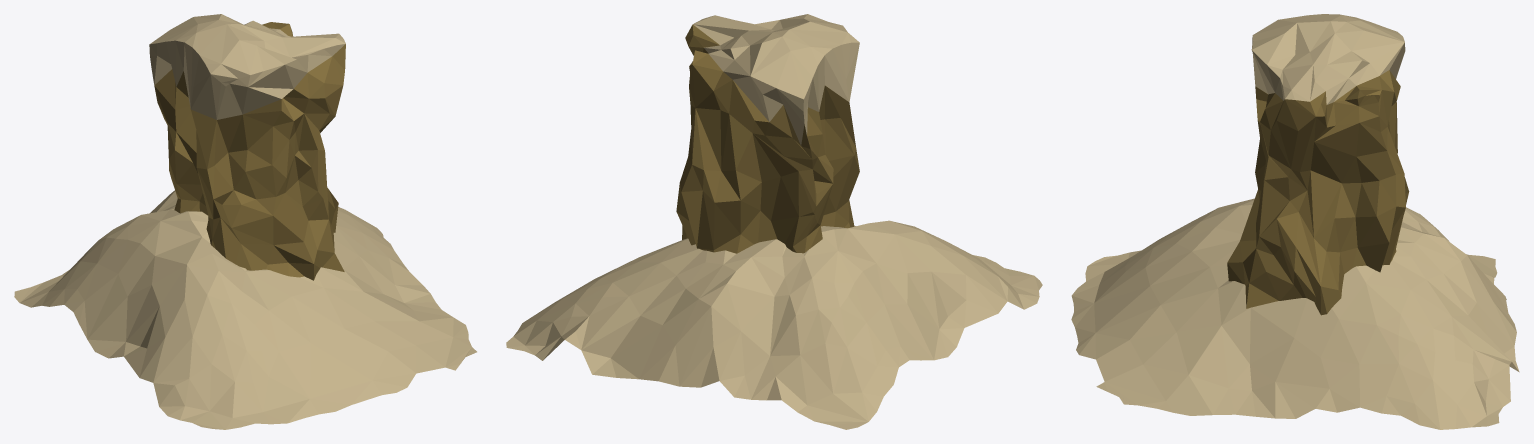
Rendered from Small Rock.fbx.
3 views of the same model, side by side, from view 1: azimuth 30°, elevation 25°; view 2: azimuth 150°, elevation 25°; view 3: azimuth 270°, elevation 25° (orthographic). The views are drawn at different scales.
Visible parts, largest first — view 1: pPlane16; view 2: pPlane16; view 3: pPlane16.
Boxes of the visible parts, x1,y1,x2,y2 form: pPlane16: (14,14,476,429); pPlane16: (506,14,1042,429); pPlane16: (1071,14,1519,429).
Size of the model in its own units: 33.1 by 27.82 by 35.
